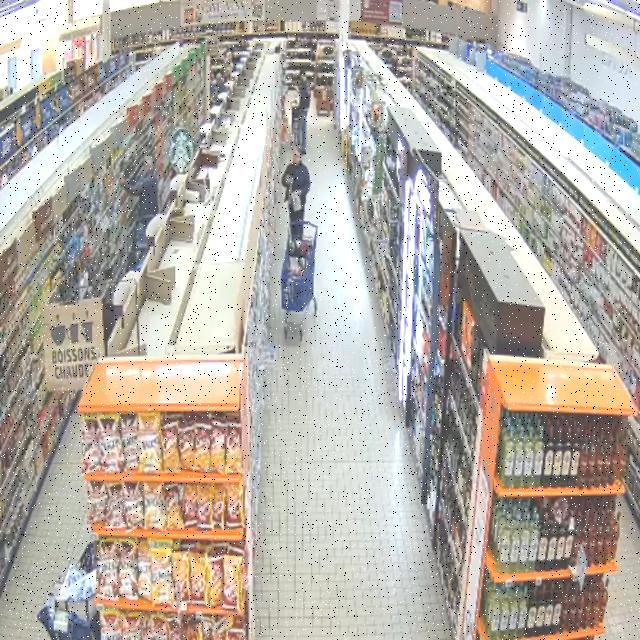article: (291, 194, 302, 212), (289, 179, 292, 204)
hands: (118, 177, 126, 186), (285, 175, 292, 184)
person: (120, 156, 158, 225), (282, 148, 310, 238), (298, 78, 310, 154)
